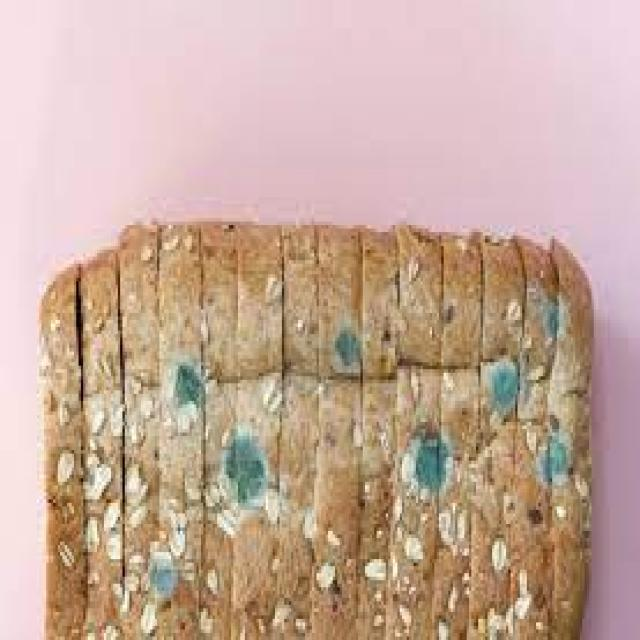Wet Waste: (44, 246, 640, 633)
